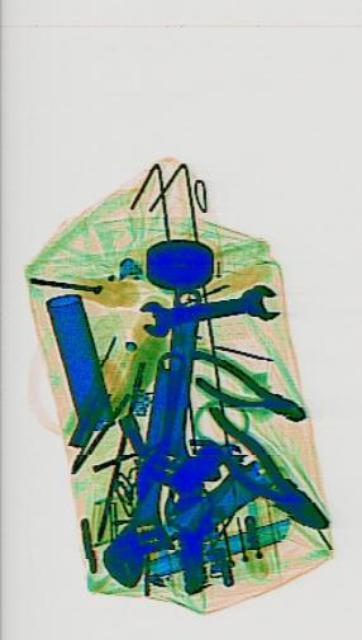Pliers: (193, 401, 332, 547), (182, 344, 307, 434)
Wrench: (136, 280, 277, 334)
